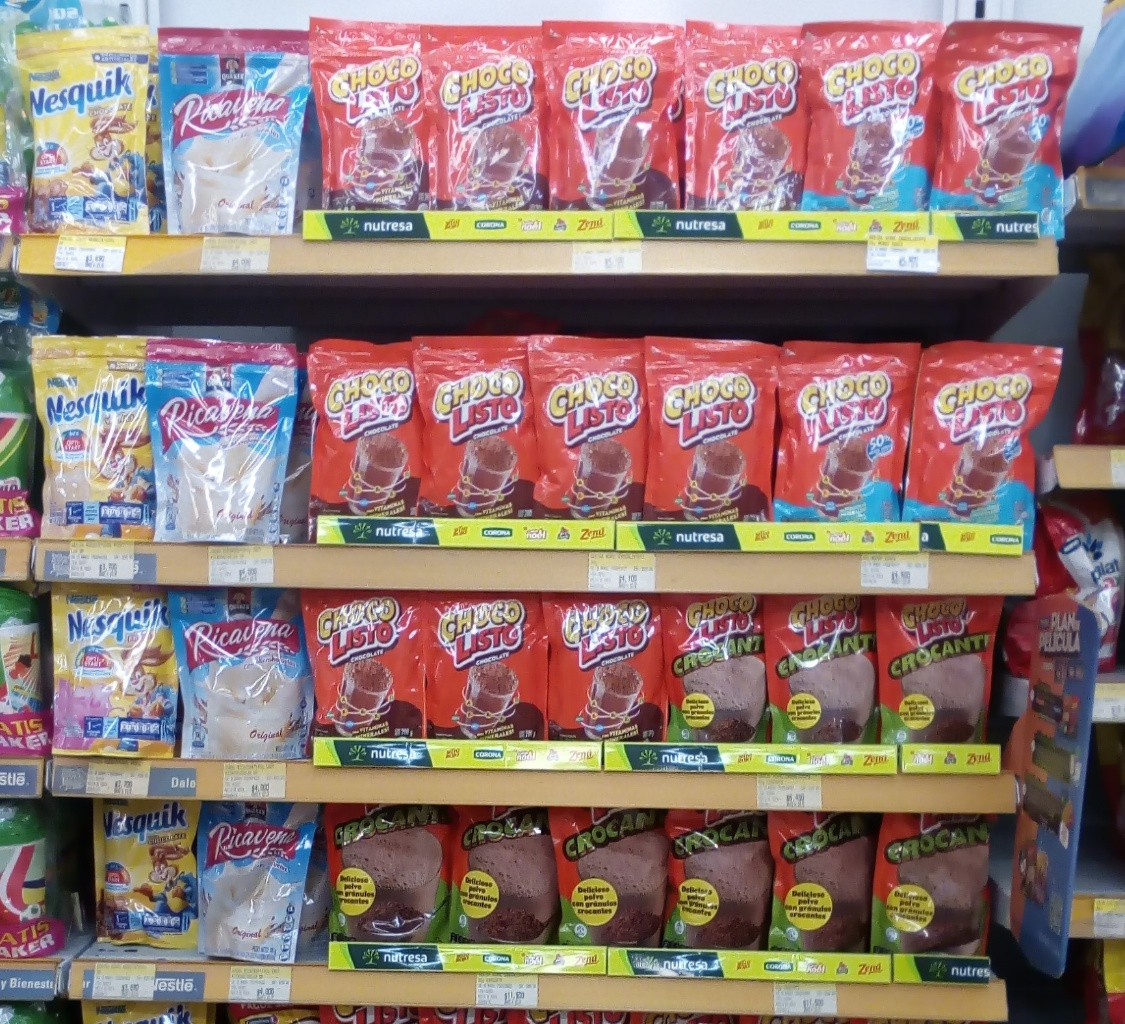COL0170102DYP25000: (664, 594, 771, 743)
COL0170102DYP50000: (324, 803, 455, 944)
COL0170104DYP20000: (804, 22, 935, 213)
COL0170303DYP20000: (16, 36, 152, 238)
COL0170305DYP20000: (50, 584, 183, 760)
COL0170306DYP20000: (30, 336, 167, 541)
